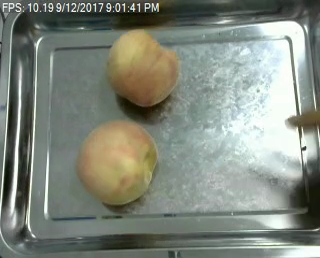Peach: (77, 116, 159, 207), (106, 28, 179, 106)
